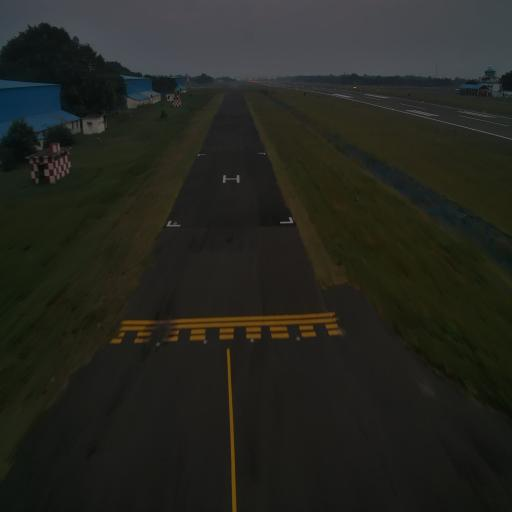off: (248, 334, 256, 347), (155, 340, 161, 350), (296, 335, 302, 344), (202, 338, 208, 346)
